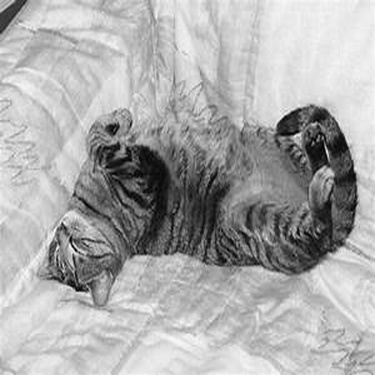cat: (37, 100, 360, 312)
